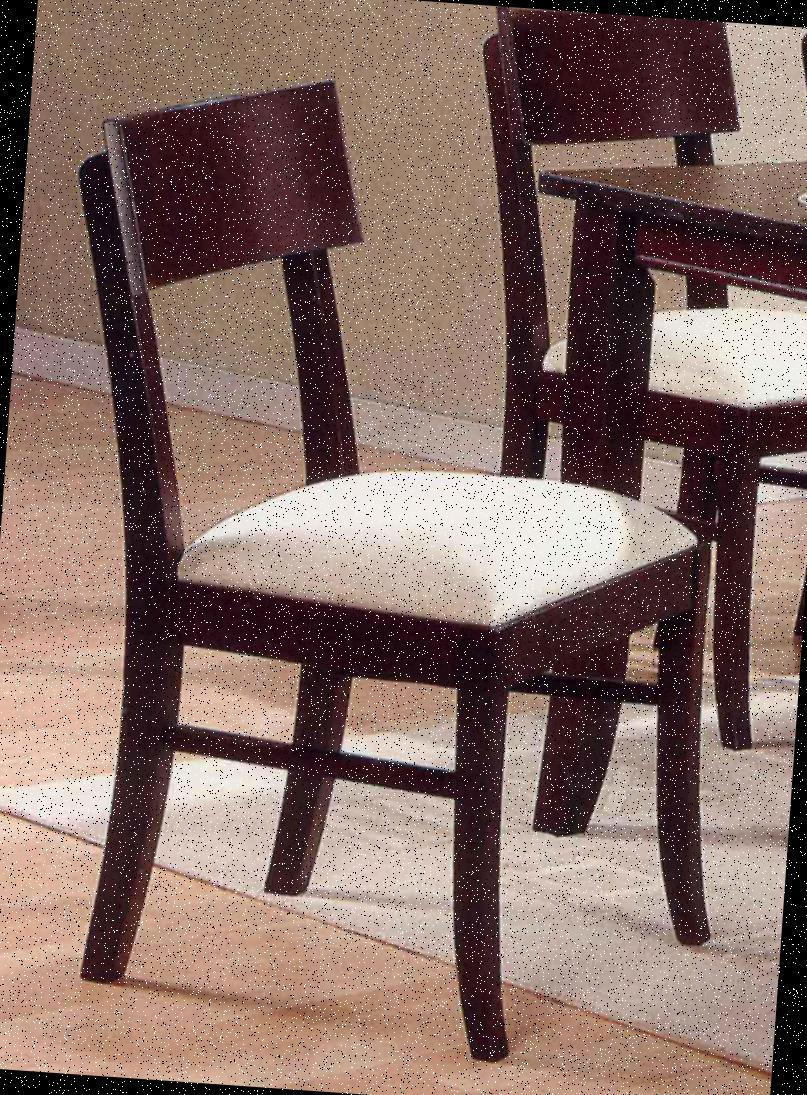Silla: (12, 56, 766, 1065), (435, 4, 806, 761)
